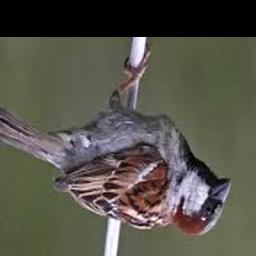Sparrow: (0, 47, 231, 237)
